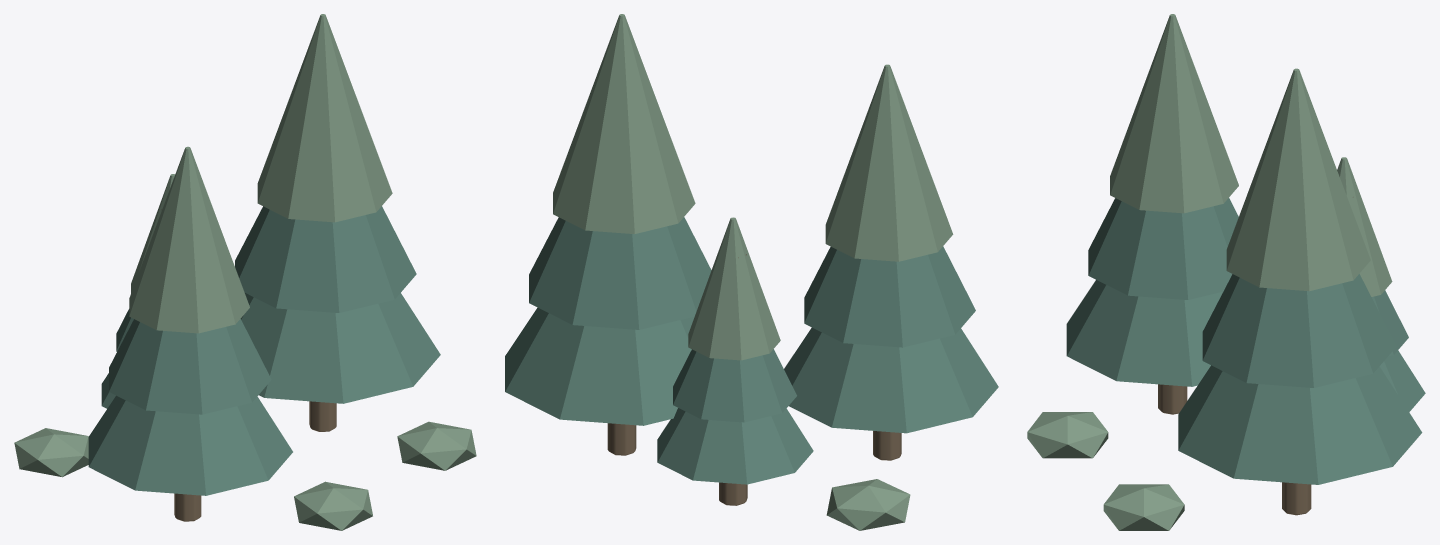
Rendered from ShorePines.glb.
3 renders of one model, left to right at view 1: azimuth 30°, elevation 25°; view 2: azimuth 150°, elevation 25°; view 3: azimuth 270°, elevation 25°, orthographic. The views are drawn at different scales.
Visible parts, largest first — view 1: Wind-shaped pine crown.005, Wind-shaped pine crown.003, Wind-shaped pine crown, Wind-shaped pine crown.004, Wind-shaped pine crown.002, Wind-shaped pine crown.001, Coastal scrub.001, Coastal scrub.002, Coastal scrub, Pine trunk.001, Pine trunk, Wind-shaped pine crown.008; view 2: Wind-shaped pine crown.005, Wind-shaped pine crown, Wind-shaped pine crown.003, Wind-shaped pine crown.004, Wind-shaped pine crown.002, Wind-shaped pine crown.001, Wind-shaped pine crown.006, Wind-shaped pine crown.008, Wind-shaped pine crown.007, Coastal scrub, Pine trunk.001, Pine trunk (+1 smaller); view 3: Wind-shaped pine crown.003, Wind-shaped pine crown.005, Wind-shaped pine crown.004, Wind-shaped pine crown.002, Wind-shaped pine crown.001, Wind-shaped pine crown, Coastal scrub.001, Coastal scrub.002, Wind-shaped pine crown.008, Wind-shaped pine crown.006, Wind-shaped pine crown.007, Pine trunk.001 (+1 smaller).
Boxes of the visible parts, box(x1,y1,x2,y2) form: Wind-shaped pine crown.005: box(257, 14, 392, 222); Wind-shaped pine crown.003: box(240, 293, 440, 403); Wind-shaped pine crown: box(88, 395, 292, 495); Wind-shaped pine crown.004: box(235, 206, 416, 312); Wind-shaped pine crown.002: box(129, 146, 249, 333); Wind-shaped pine crown.001: box(109, 319, 271, 414); Coastal scrub.001: box(397, 421, 476, 470); Coastal scrub.002: box(294, 481, 372, 530); Coastal scrub: box(14, 428, 88, 477); Pine trunk.001: box(309, 401, 336, 431); Pine trunk: box(174, 493, 201, 521); Wind-shaped pine crown.008: box(131, 174, 175, 292); Wind-shaped pine crown.005: box(553, 14, 695, 234); Wind-shaped pine crown: box(784, 327, 998, 433); Wind-shaped pine crown.003: box(505, 307, 694, 425); Wind-shaped pine crown.004: box(529, 217, 711, 329); Wind-shaped pine crown.002: box(825, 64, 953, 261); Wind-shaped pine crown.001: box(804, 246, 975, 347); Wind-shaped pine crown.006: box(657, 408, 813, 484); Wind-shaped pine crown.008: box(688, 217, 780, 360); Wind-shaped pine crown.007: box(673, 349, 796, 422); Coastal scrub: box(826, 479, 910, 530); Pine trunk.001: box(607, 423, 636, 455); Pine trunk: box(873, 431, 901, 460); Wind-shaped pine crown.003: box(1178, 365, 1422, 484); Wind-shaped pine crown.005: box(1226, 68, 1370, 291); Wind-shaped pine crown.004: box(1202, 274, 1396, 387); Wind-shaped pine crown.002: box(1110, 14, 1238, 213); Wind-shaped pine crown.001: box(1088, 198, 1238, 299); Wind-shaped pine crown: box(1066, 280, 1222, 386); Coastal scrub.001: box(1103, 484, 1184, 530); Coastal scrub.002: box(1027, 412, 1108, 458); Wind-shaped pine crown.008: box(1337, 157, 1392, 296); Wind-shaped pine crown.006: box(1379, 350, 1425, 411); Wind-shaped pine crown.007: box(1371, 290, 1408, 356); Pine trunk.001: box(1282, 482, 1311, 515).
Bounding box in the file's own units: 5 × 5.09 × 4.18.
